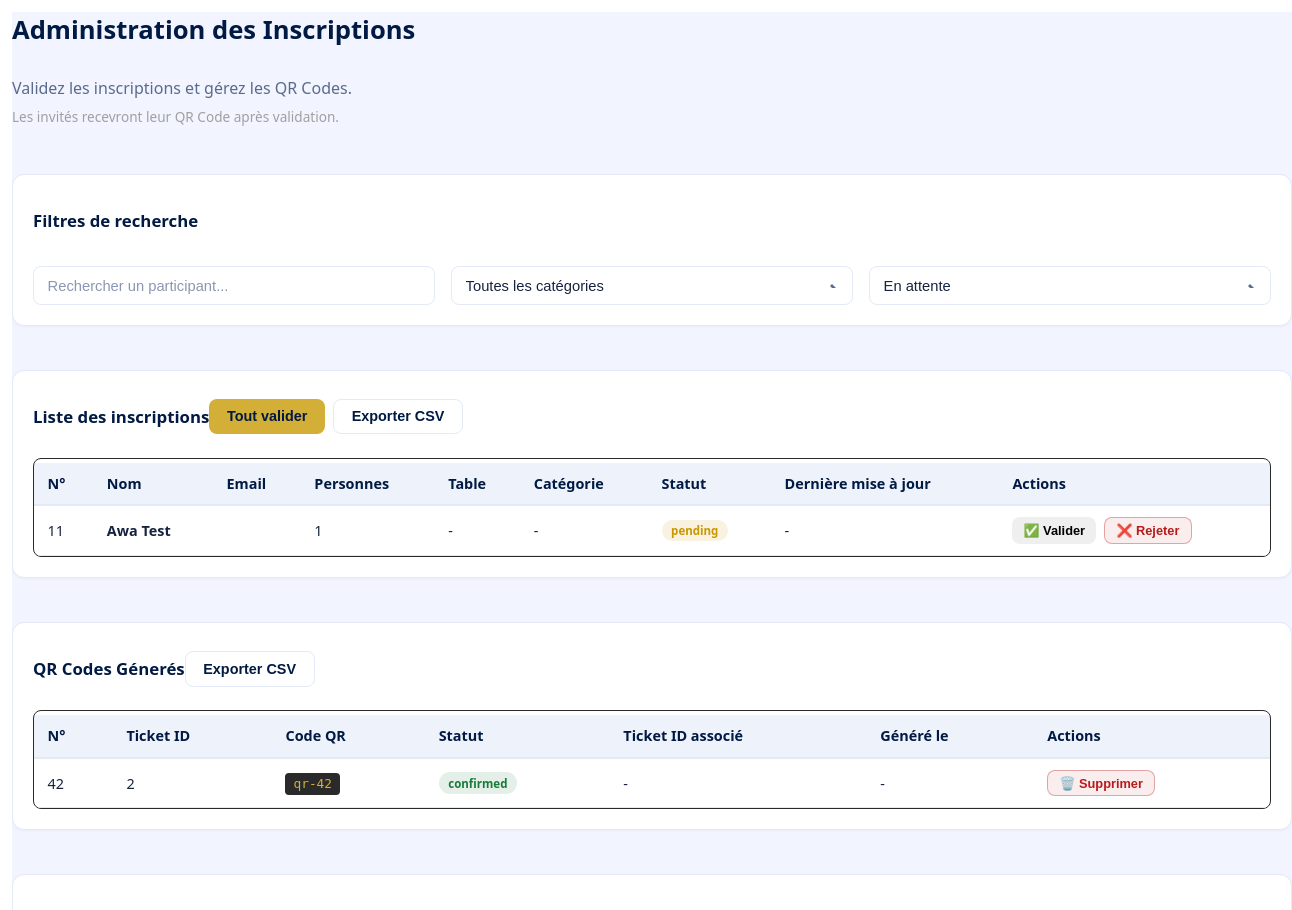
rejection failures are visible and never reported as successful
Click the button "❌ Rejeter".
click(1148, 531)  # box top-left (1104, 518), bottom-right (1192, 544)
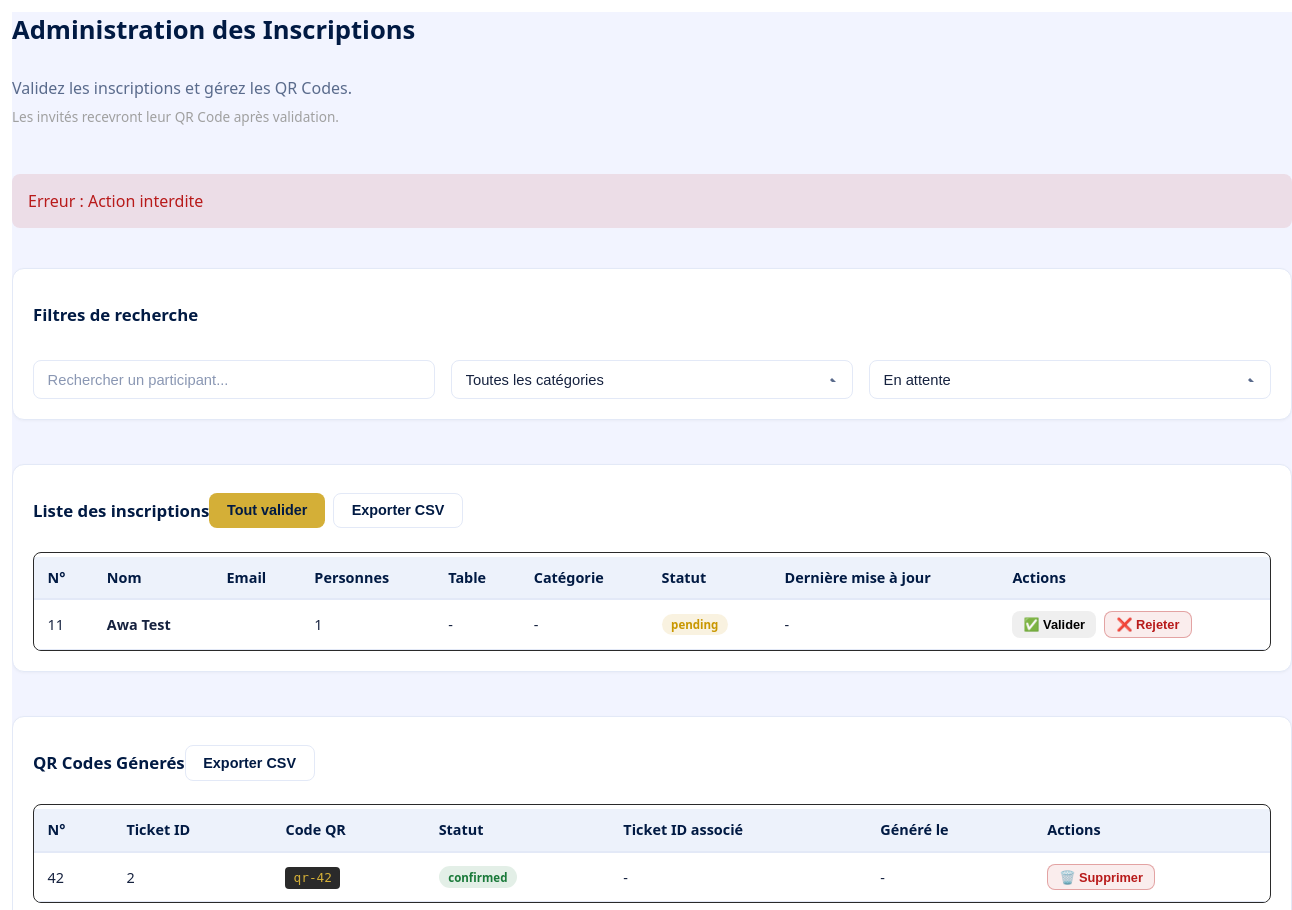
Expected: the text "Erreur : Action interdite" is shown, top-left (12, 174), bottom-right (1291, 228)
